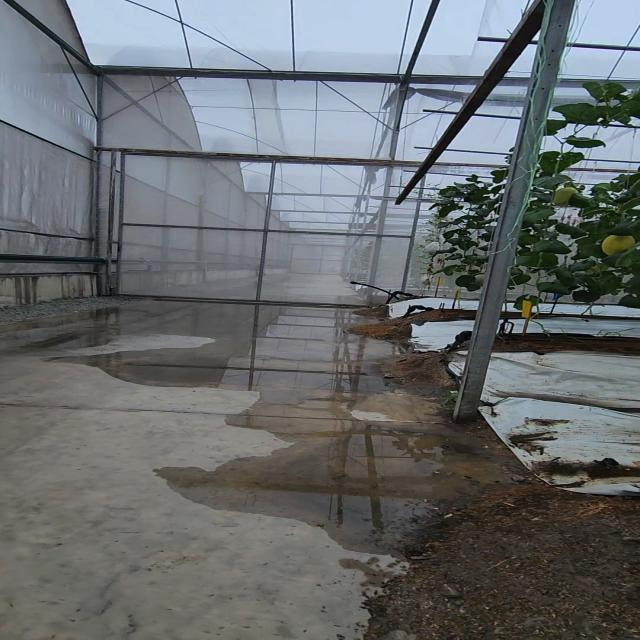Rear-melon: (598, 233, 638, 256)
